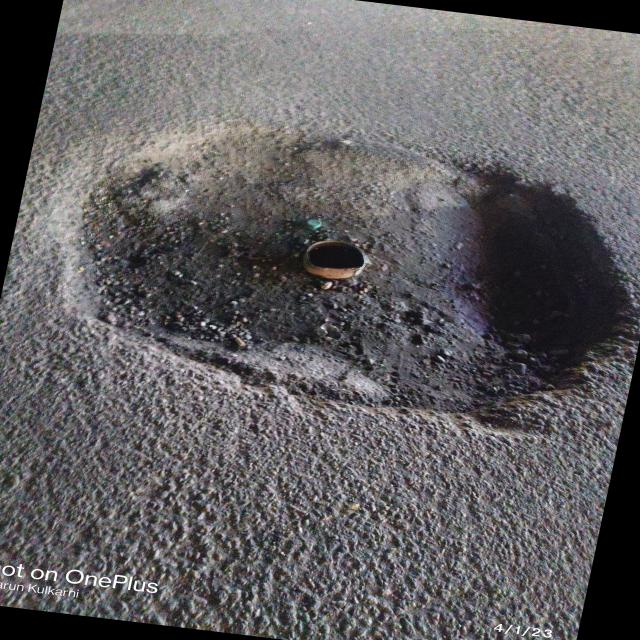potholes: (62, 119, 624, 432)
